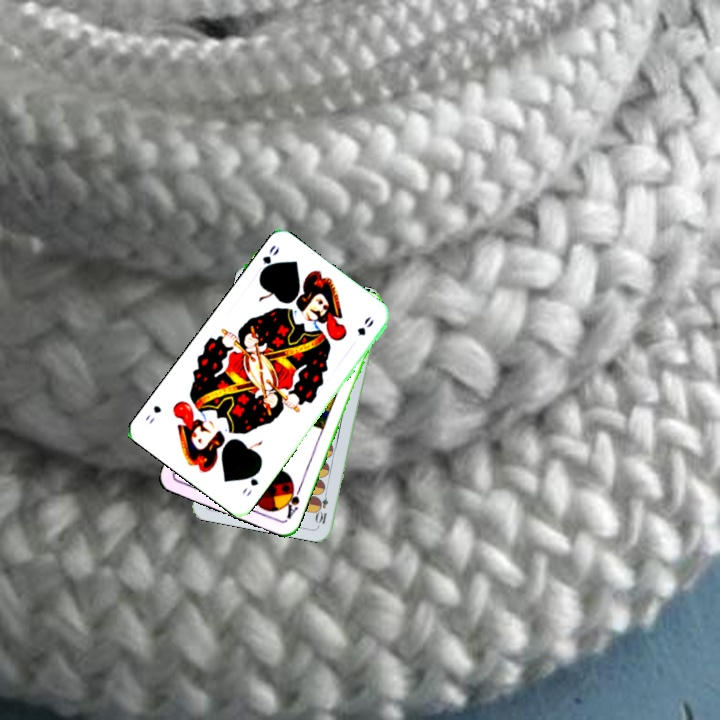E10: (313, 486, 331, 526)
GO: (255, 241, 282, 279), (238, 465, 263, 499)
SA: (280, 480, 304, 522)
